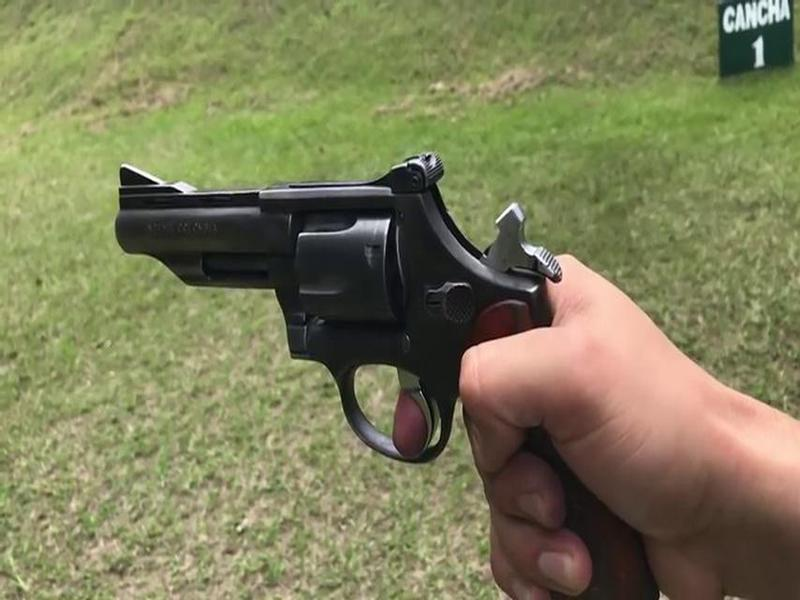Revolver: (110, 142, 614, 544)
